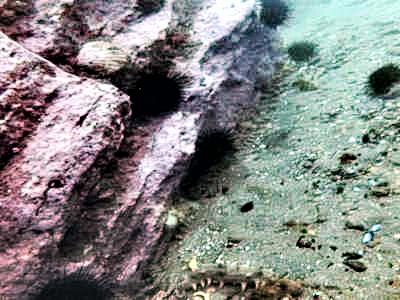urchin: (126, 65, 188, 118), (33, 265, 113, 297), (193, 126, 236, 167), (363, 58, 397, 99), (259, 1, 287, 26), (289, 41, 317, 62)
